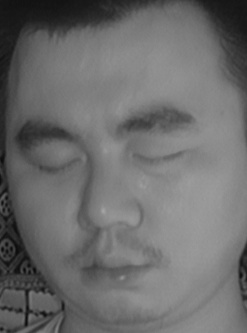blink: (133, 139, 181, 173), (33, 148, 82, 181)
mouth: (67, 237, 162, 295)
